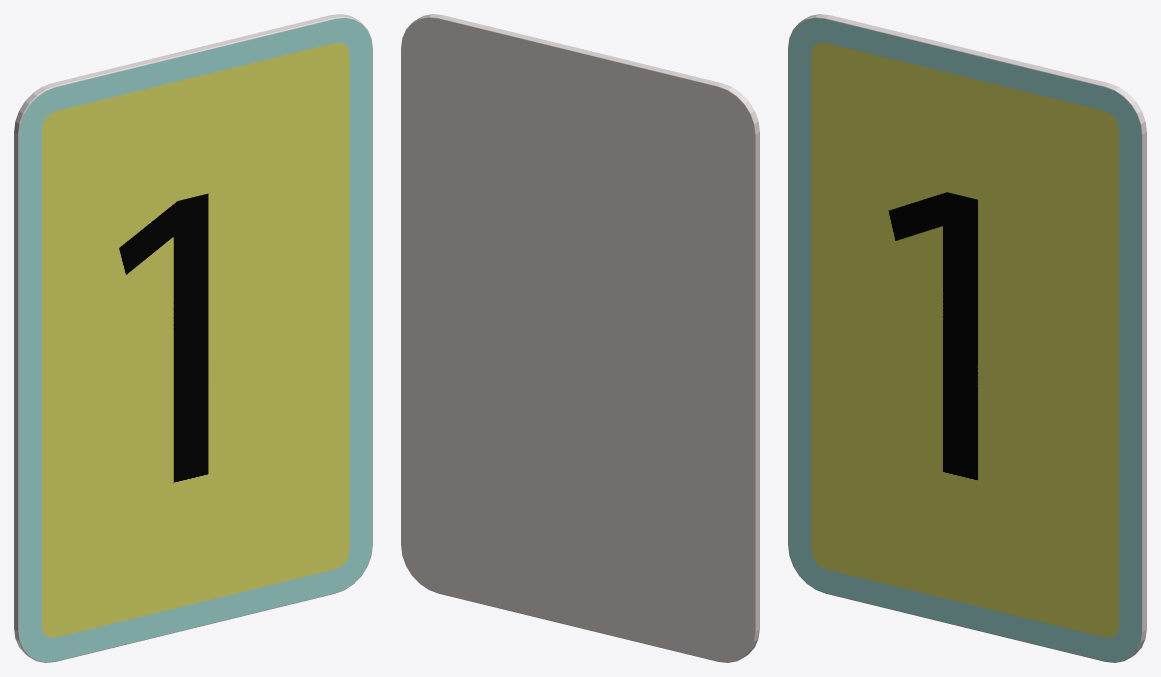
File: Diamonds_14.fbx
3 renders of one model, left to right at view 1: azimuth 30°, elevation 25°; view 2: azimuth 150°, elevation 25°; view 3: azimuth 330°, elevation 25°, orthographic.
Parts seen in each view (by area): view 1: jaune1; view 2: jaune1; view 3: jaune1.
Boxes of the visible parts, left/top/right/bottom form: jaune1: left=14, top=14, right=372, bottom=662; jaune1: left=401, top=14, right=759, bottom=662; jaune1: left=788, top=14, right=1146, bottom=662.
Size of the model in its own units: 200 by 310 by 4.34.
3 materials, 1 textured.
